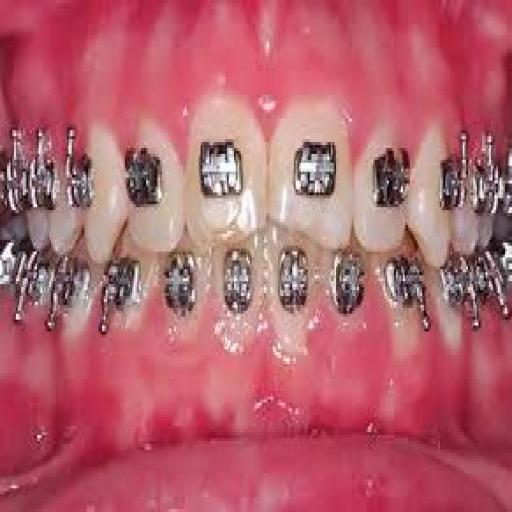correct_brace: (195, 131, 245, 211), (290, 135, 340, 212), (372, 138, 410, 221), (120, 142, 162, 214), (439, 147, 469, 220), (64, 150, 96, 214)
incorrect_brace: (352, 120, 412, 268), (128, 119, 185, 256)
